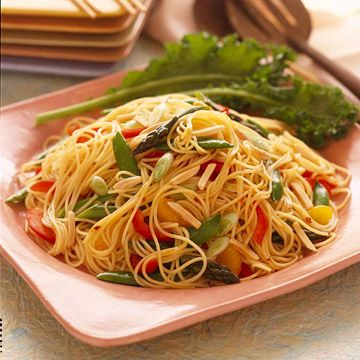chopped lettuce: (170, 42, 343, 120)
plain spaghetti: (43, 109, 304, 269)
